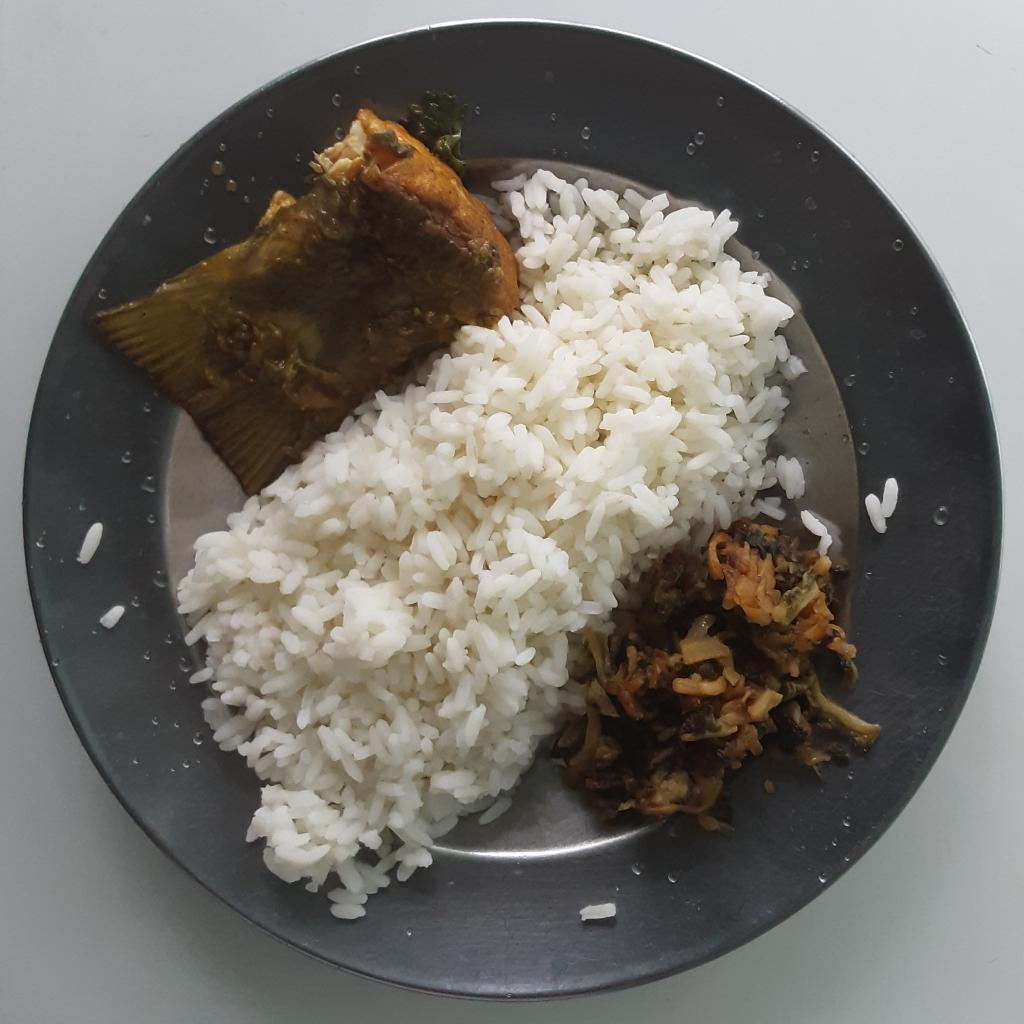fish: (80, 107, 521, 504)
korola-vaji: (557, 523, 881, 833)
rice: (172, 167, 810, 924), (797, 507, 837, 561)
